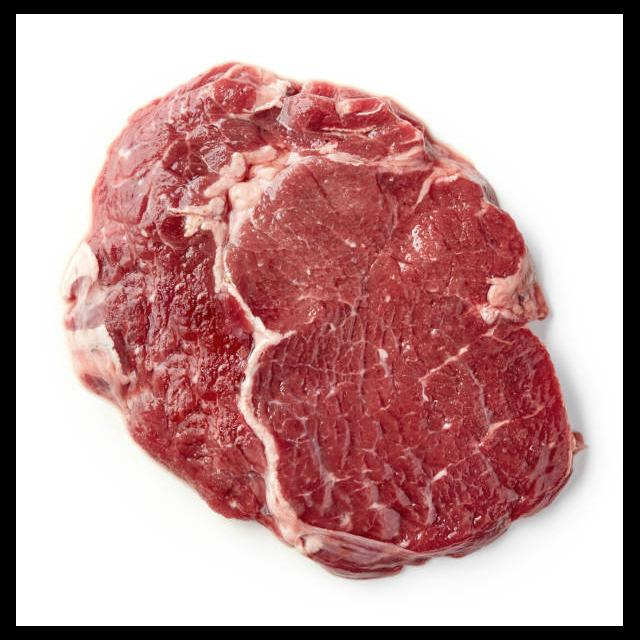beef: (61, 58, 590, 580)
